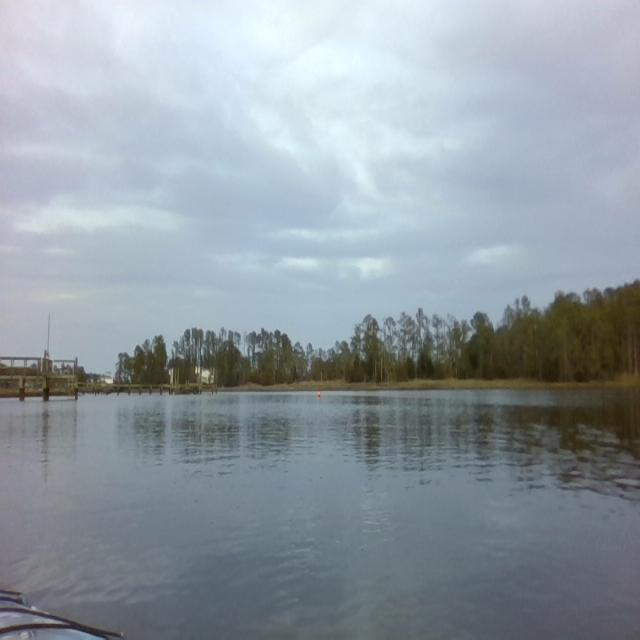Buoy: (316, 388, 323, 400)
